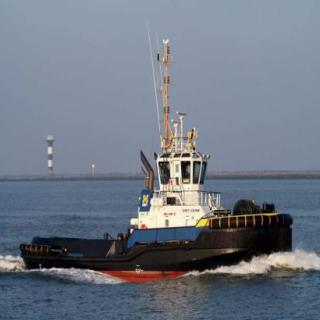Tug Boat: (32, 31, 298, 276)
